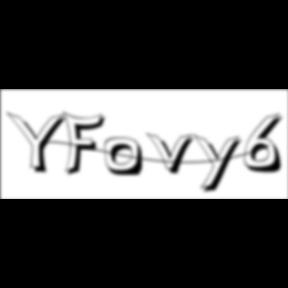6: (244, 112, 288, 176)
F: (63, 110, 111, 178)
Y: (5, 110, 72, 176)
o: (104, 137, 146, 179)
v: (146, 131, 200, 177)
y: (193, 132, 247, 196)
